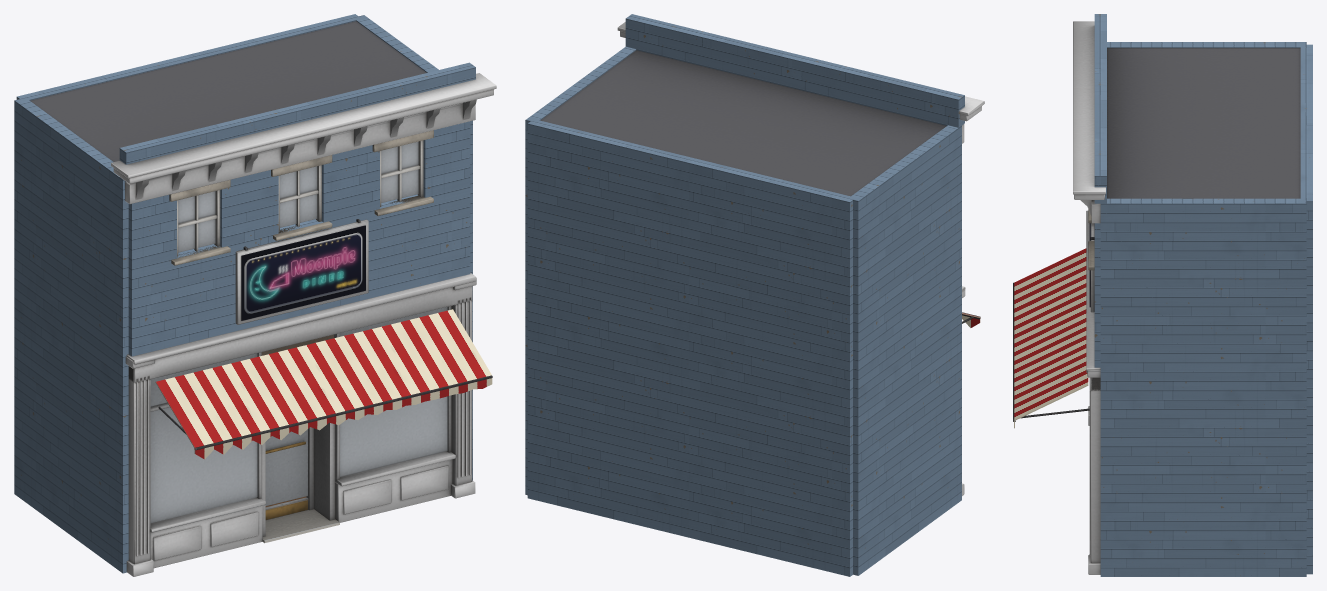
Rendered from WFShopDiner.fbx.
The picture shows the model from 3 angles, left to right: view 1: azimuth 30°, elevation 25°; view 2: azimuth 150°, elevation 25°; view 3: azimuth 270°, elevation 25°; orthographic projection. The views are drawn at different scales.
Parts seen in each view (by area): view 1: WFShopDiner_Walls, WFShopDiner_Main, WFShopDiner_Awning, WFShopDiner_Glass, WFShopDiner_Sign; view 2: WFShopDiner_Walls, WFShopDiner_Main; view 3: WFShopDiner_Walls, WFShopDiner_Main, WFShopDiner_Awning.
Part boxes in pixels (<box>): WFShopDiner_Walls: <box>14,14,475,573</box>; WFShopDiner_Main: <box>30,21,496,576</box>; WFShopDiner_Awning: <box>155,309,492,459</box>; WFShopDiner_Glass: <box>150,141,447,522</box>; WFShopDiner_Sign: <box>241,225,365,320</box>; WFShopDiner_Walls: <box>525,14,964,576</box>; WFShopDiner_Main: <box>540,22,984,495</box>; WFShopDiner_Walls: <box>1094,14,1312,576</box>; WFShopDiner_Main: <box>1013,21,1300,574</box>; WFShopDiner_Awning: <box>1014,248,1088,428</box>.
Bounding box in the file's own units: 1960 × 2150 × 1456.
